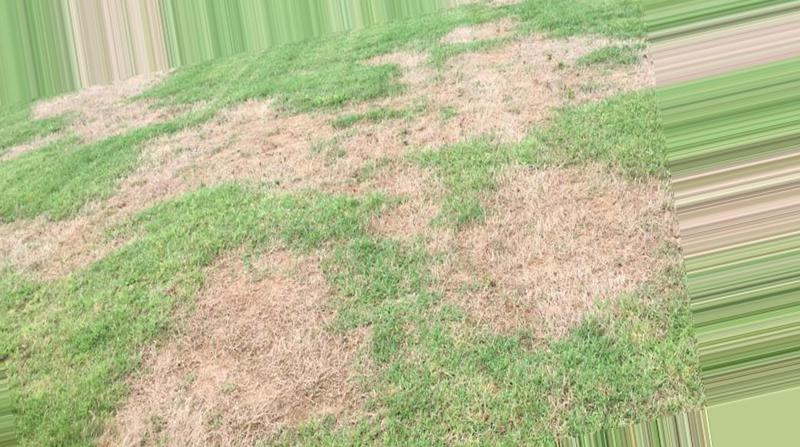patch: (533, 182, 672, 276), (216, 297, 315, 414), (212, 135, 336, 191), (475, 55, 563, 125), (150, 361, 203, 447), (34, 220, 116, 275), (243, 253, 310, 293), (510, 290, 586, 320), (137, 156, 193, 196), (77, 94, 124, 123), (487, 219, 527, 252)
